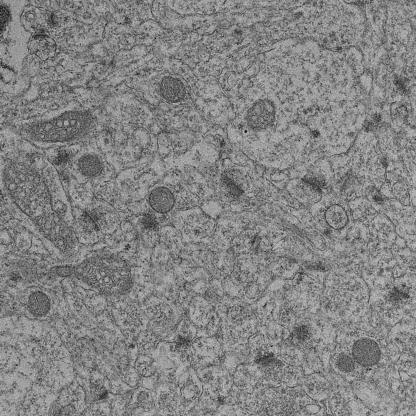mitochondria: (2, 156, 80, 254), (48, 254, 133, 300), (20, 108, 96, 143), (160, 73, 192, 105), (352, 335, 382, 368), (147, 182, 176, 214), (25, 287, 51, 318), (78, 154, 106, 180), (333, 350, 356, 374)
